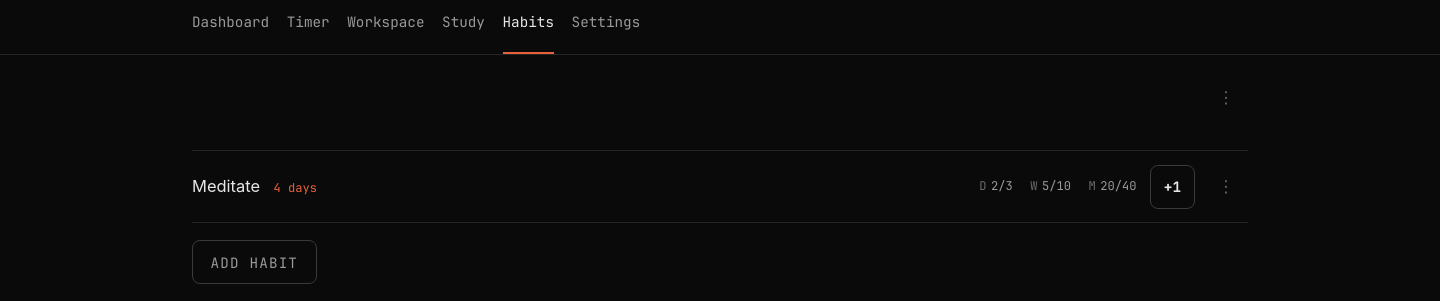
Test: logging progress › increments all three counters immediately, then shows the server's streak
This screenshot has width=1440, height=301.
Step 1. Click the button named "log meditate" → (1172,186), box [1150,164,1195,208]
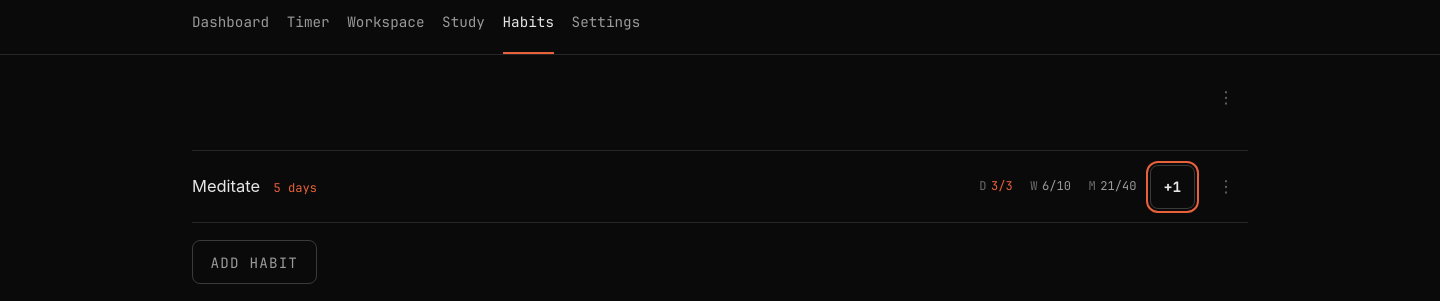
Now the text "3/3" is shown, box [991,178,1013,194]
Now the text "6/10" is shown, box [1042,178,1071,194]
Now the text "21/40" is shown, box [1100,178,1136,194]
